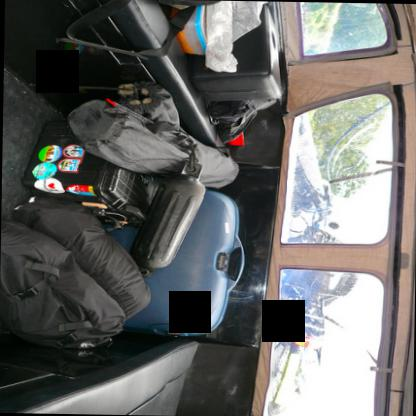backpack: (0, 194, 155, 357), (206, 97, 275, 143)
handbag: (61, 0, 222, 56)
suitcase: (106, 189, 244, 336), (20, 110, 163, 227), (187, 1, 284, 102)
